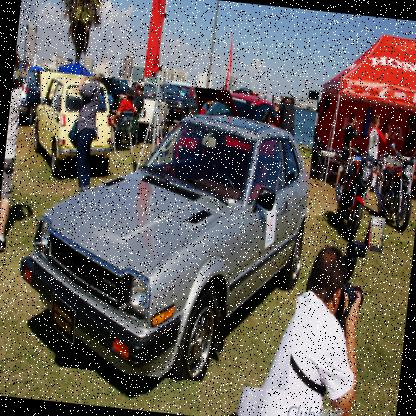Car: (0, 69, 319, 392)
